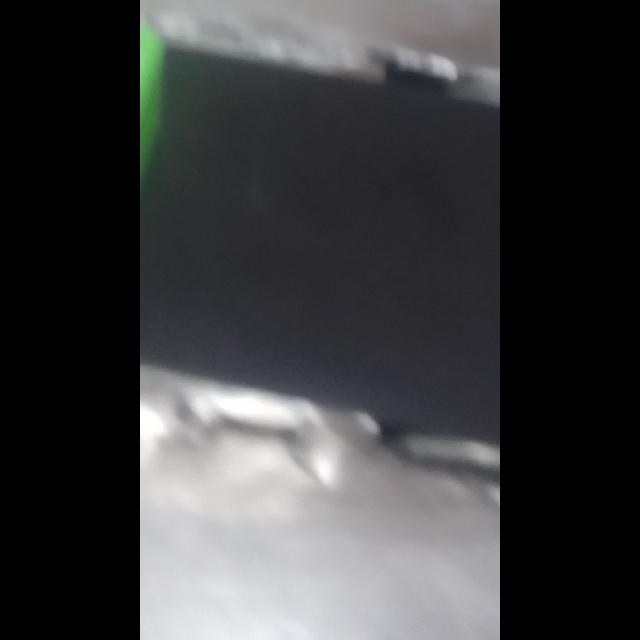greenBox: (140, 1, 176, 298)
